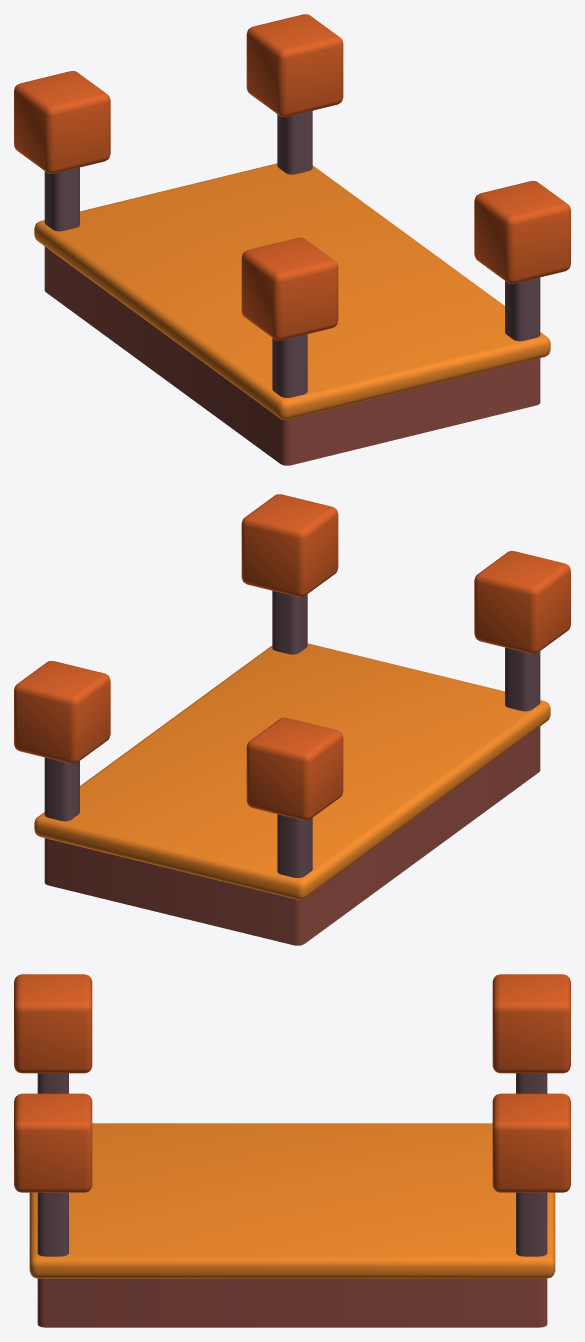
File: GroundFall.fbx
3 renders of one model, top to bottom at view 1: azimuth 30°, elevation 25°; view 2: azimuth 150°, elevation 25°; view 3: azimuth 270°, elevation 25°, orthographic. The views are drawn at different scales.
Visible parts, largest first — view 1: GroundLevelFall; view 2: GroundLevelFall; view 3: GroundLevelFall.
Part boxes in pixels (box(x1,y1,x2,y2)): GroundLevelFall: box(14, 14, 570, 465); GroundLevelFall: box(14, 494, 570, 945); GroundLevelFall: box(14, 974, 570, 1327).
Size of the model in its own units: 920 by 600 by 1420.
